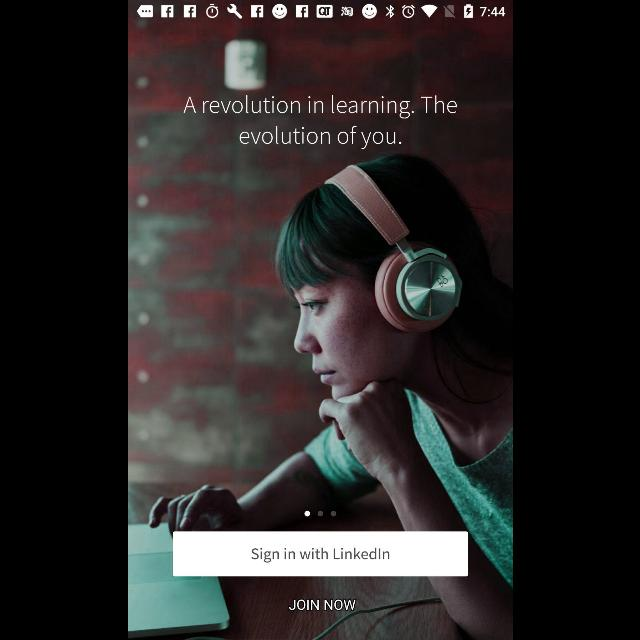backgroundimage: (128, 20, 512, 640)
pageindicator: (304, 511, 336, 517)
text: (182, 96, 456, 150), (288, 599, 356, 611)
textbutton: (172, 532, 468, 576)
uppertaskbar: (128, 1, 512, 20)
